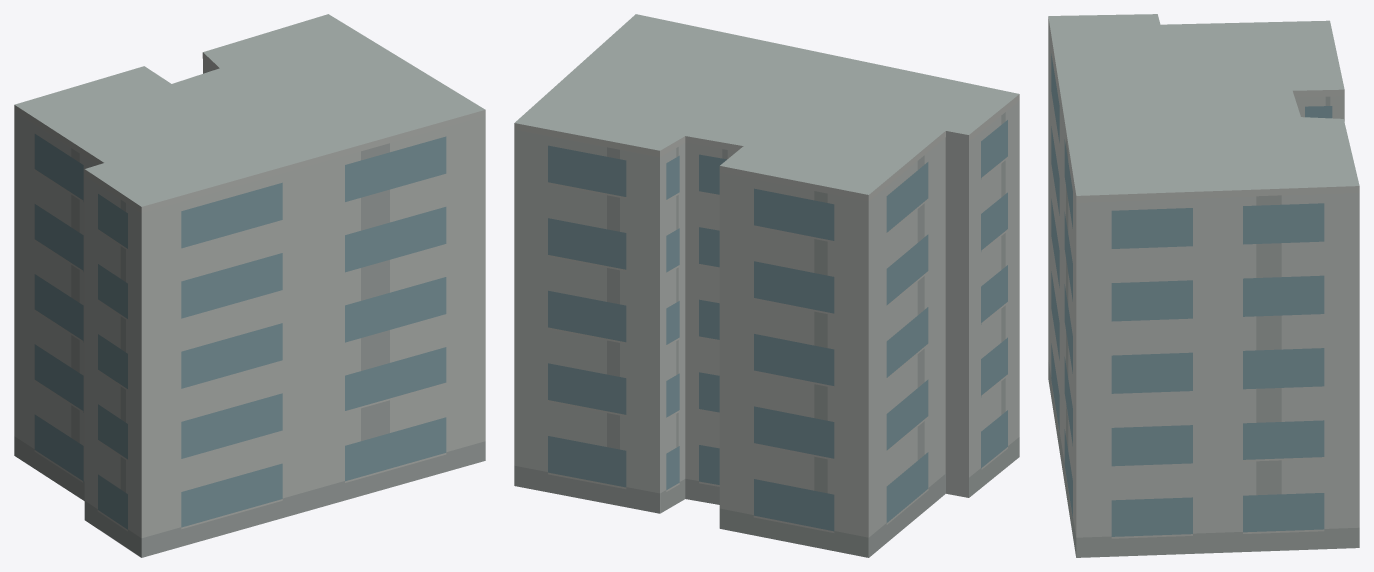
Rendered from survey-upis-32894217.glb.
3 renders of one model, left to right at view 1: azimuth 30°, elevation 25°; view 2: azimuth 150°, elevation 25°; view 3: azimuth 270°, elevation 25°, orthographic. The views are drawn at different scales.
Parts seen in each view (by area): view 1: survey-upis-32894217.tmp; view 2: survey-upis-32894217.tmp; view 3: survey-upis-32894217.tmp.
Boxes of the visible parts, x1=… form: survey-upis-32894217.tmp: x1=14, y1=14, x2=485, y2=557; survey-upis-32894217.tmp: x1=514, y1=14, x2=1019, y2=557; survey-upis-32894217.tmp: x1=1048, y1=14, x2=1359, y2=557.
Size of the model in its own units: 14.35 by 13.3 by 10.38.
